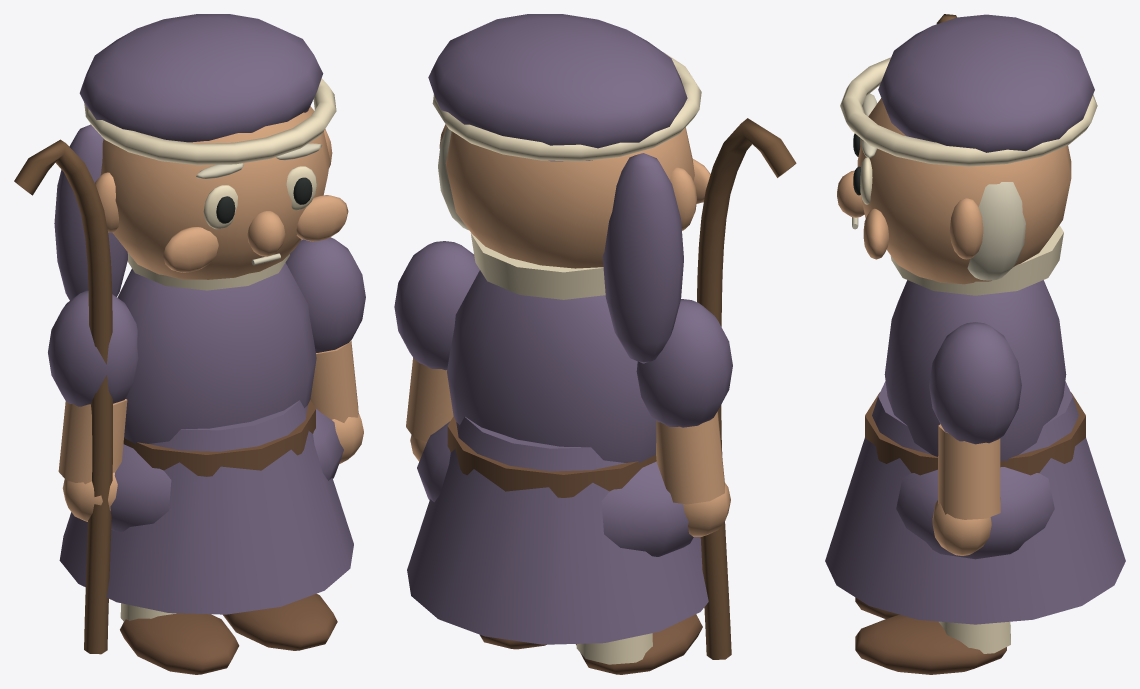
Rendered from character_mara.glb.
3 views of the same model, side by side, from view 1: azimuth 30°, elevation 25°; view 2: azimuth 150°, elevation 25°; view 3: azimuth 270°, elevation 25° (orthographic). The views are drawn at different scales.
Parts seen in each view (by area): view 1: batch_mara_0, batch_mara_2, batch_mara_6, batch_mara_1, batch_arm_left_0, batch_arm_right_0, batch_leg_left_1, batch_arm_left_1, batch_leg_right_1, batch_mara_5, batch_arm_right_1, batch_mara_3 (+2 smaller); view 2: batch_mara_0, batch_mara_2, batch_mara_6, batch_mara_1, batch_arm_left_0, batch_arm_right_0, batch_arm_left_1, batch_mara_5, batch_arm_right_1, batch_leg_left_1, batch_leg_left_0, batch_mara_3; view 3: batch_mara_0, batch_mara_2, batch_mara_1, batch_arm_right_0, batch_arm_right_1, batch_leg_right_1, batch_mara_3, batch_mara_5, batch_leg_right_0.
Boxes of the visible parts, <box> form: batch_mara_0: <box>54,14,353,614</box>; batch_mara_2: <box>95,106,348,279</box>; batch_mara_6: <box>14,139,112,654</box>; batch_mara_1: <box>84,78,336,290</box>; batch_arm_left_0: <box>48,290,138,406</box>; batch_arm_right_0: <box>285,237,365,352</box>; batch_leg_left_1: <box>120,613,239,674</box>; batch_arm_left_1: <box>58,399,127,521</box>; batch_leg_right_1: <box>223,593,337,650</box>; batch_mara_5: <box>123,400,315,476</box>; batch_arm_right_1: <box>310,340,363,464</box>; batch_mara_3: <box>196,143,321,265</box>; batch_mara_0: <box>407,14,708,644</box>; batch_mara_2: <box>439,124,710,268</box>; batch_mara_6: <box>697,118,796,659</box>; batch_mara_1: <box>432,52,701,299</box>; batch_arm_left_0: <box>636,299,732,427</box>; batch_arm_right_0: <box>394,241,479,370</box>; batch_arm_left_1: <box>656,411,730,536</box>; batch_mara_5: <box>447,416,656,497</box>; batch_arm_right_1: <box>406,357,453,461</box>; batch_leg_left_1: <box>576,614,702,674</box>; batch_leg_left_0: <box>576,633,652,664</box>; batch_mara_3: <box>438,127,468,230</box>; batch_mara_0: <box>825,14,1125,624</box>; batch_mara_2: <box>837,98,1071,284</box>; batch_mara_1: <box>840,57,1097,295</box>; batch_arm_right_0: <box>929,322,1021,444</box>; batch_arm_right_1: <box>932,424,1000,555</box>; batch_leg_right_1: <box>855,615,1006,674</box>; batch_mara_3: <box>852,93,1025,280</box>; batch_mara_5: <box>865,392,1085,475</box>; batch_leg_right_0: <box>939,621,1010,653</box>.
Size of the model in its own units: 0.9424 by 1.5 by 0.68.
